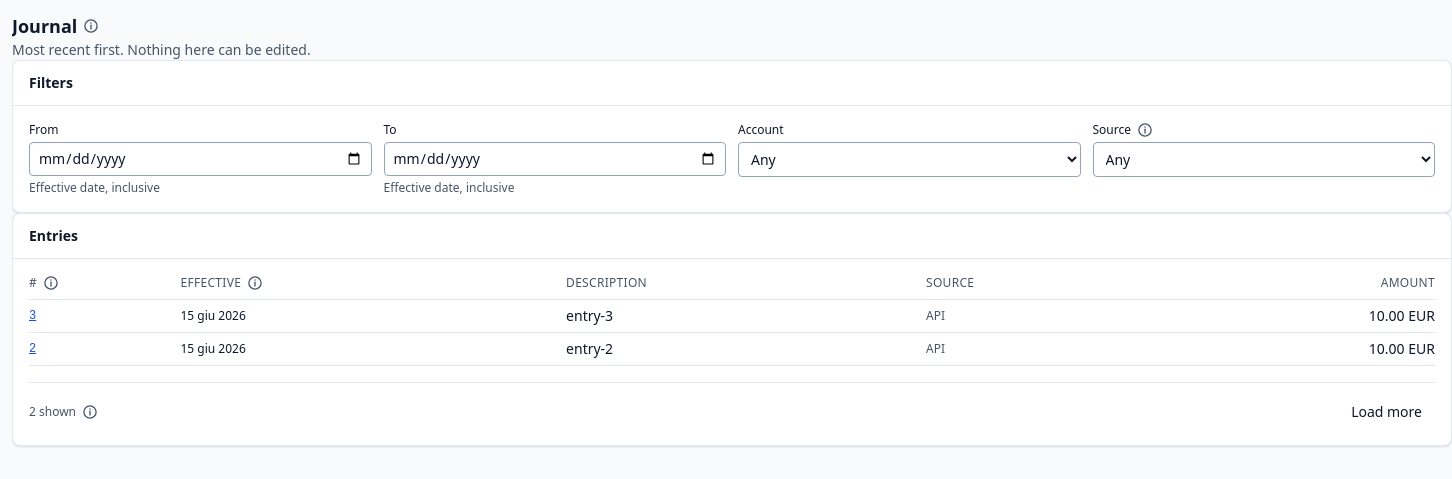
Scenario: browsing the journal › follows the cursor the server issued rather than counting pages
Expected: the text "entry-3" is shown, [566,300,926,332]
Click the button "Load more": point(1387, 412) [1338,395,1435,429]
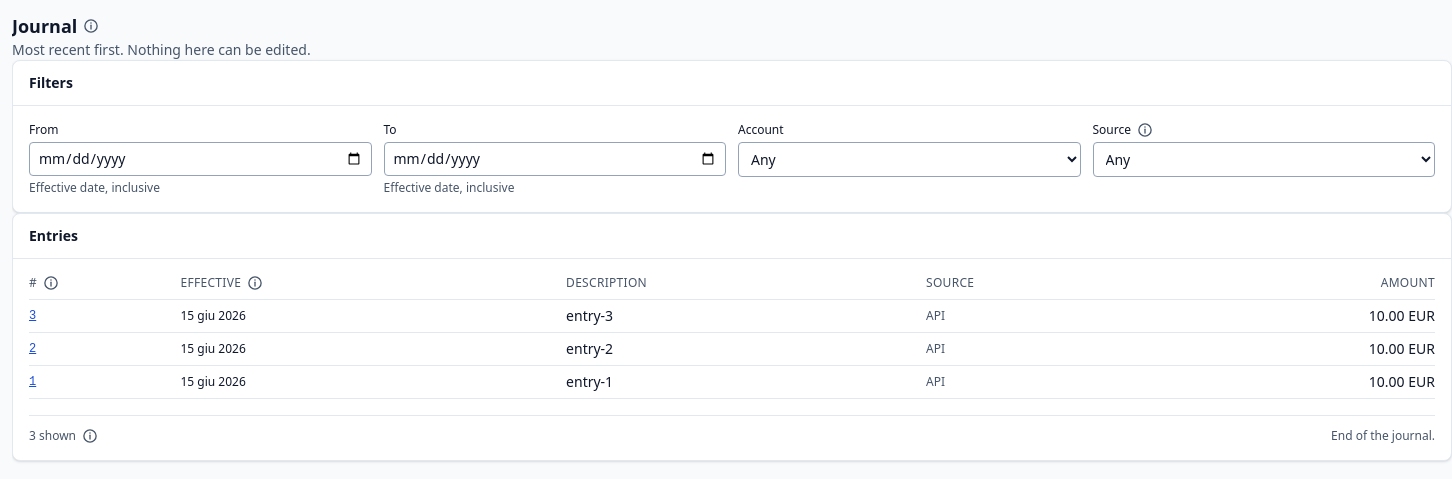
Expected: the text "entry-1" is shown, [566,366,926,398]
Expected: the text "3 shown" is shown, [29,428,102,444]
